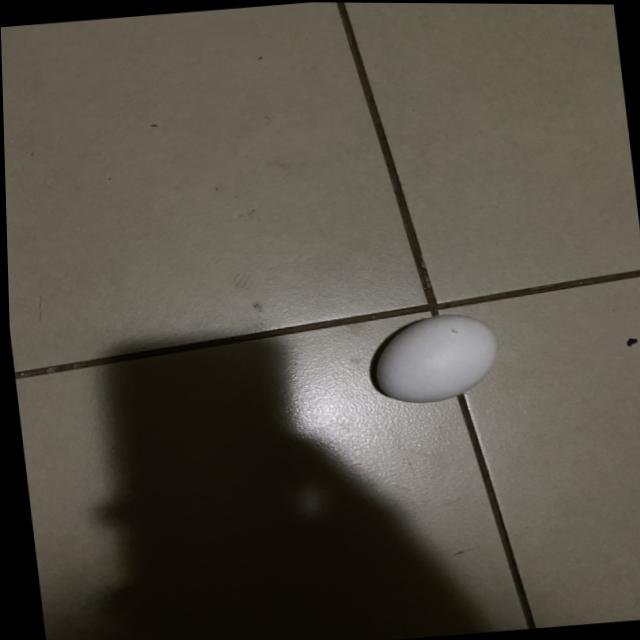egg: (360, 303, 510, 410)
